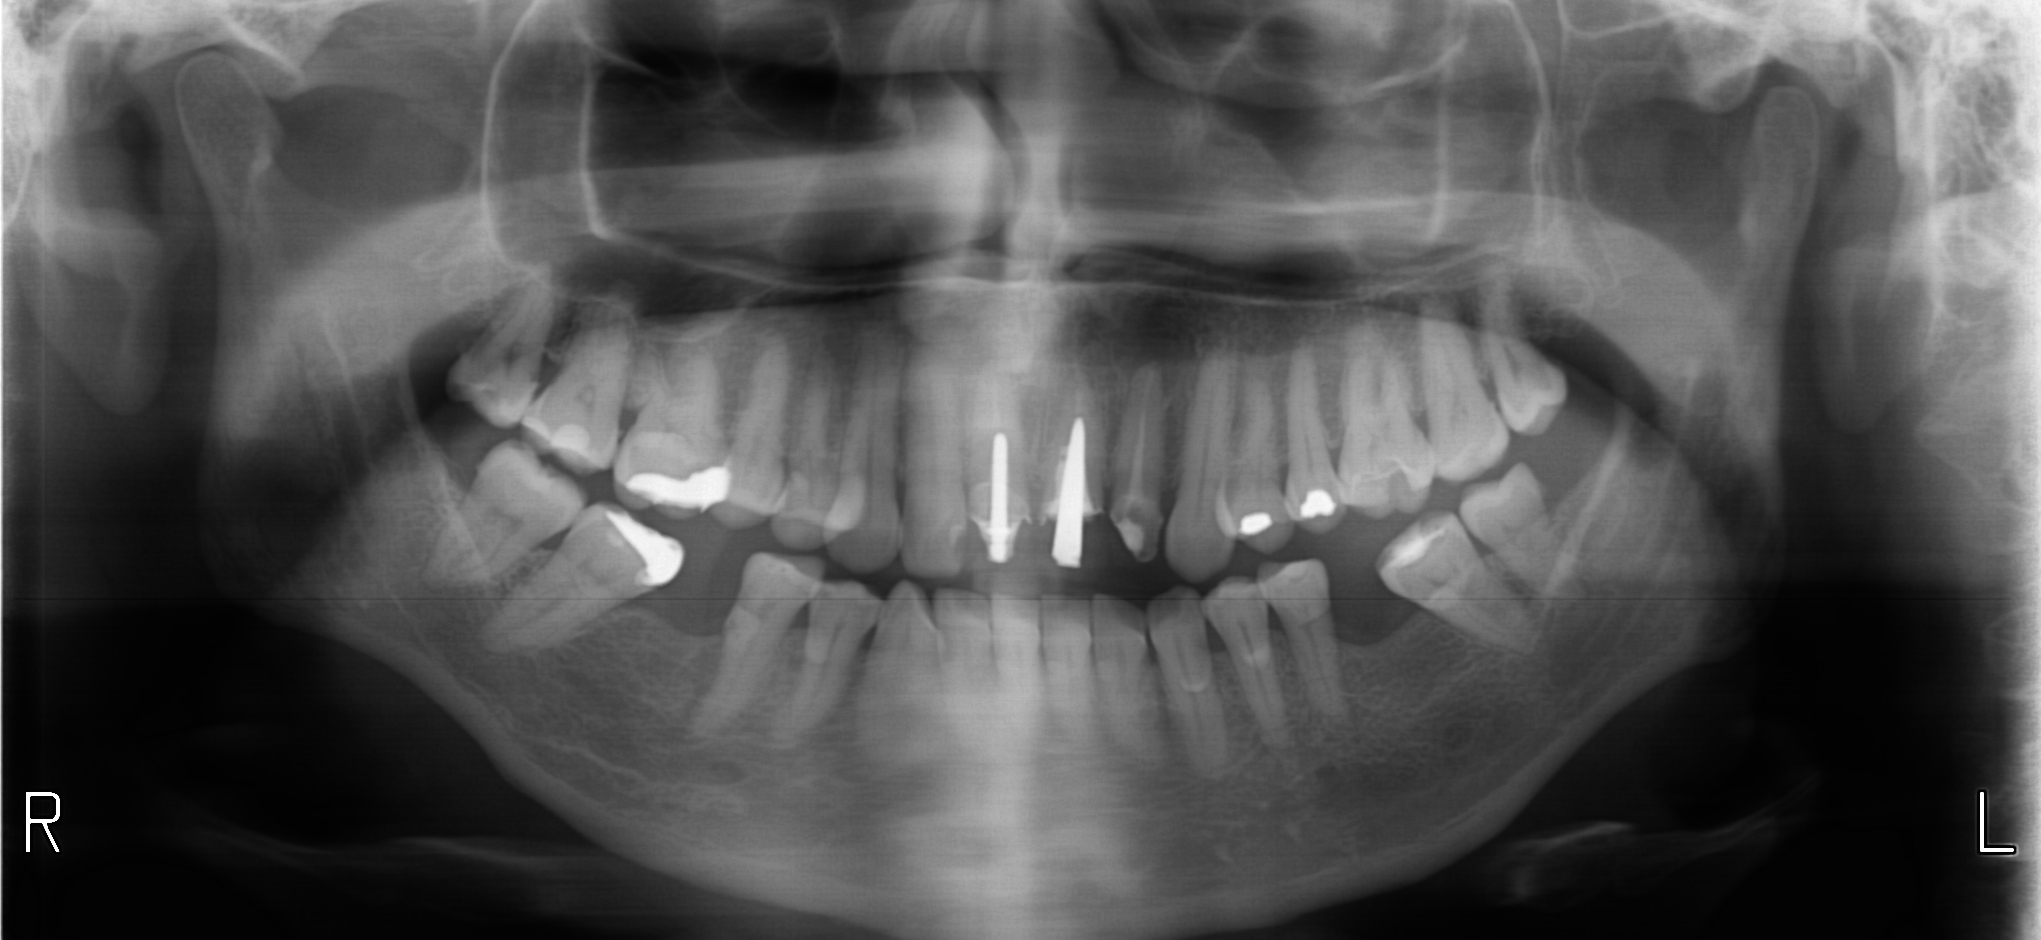cavity: (1118, 510, 1147, 549), (1388, 471, 1408, 493), (446, 374, 463, 400), (957, 532, 965, 564)
